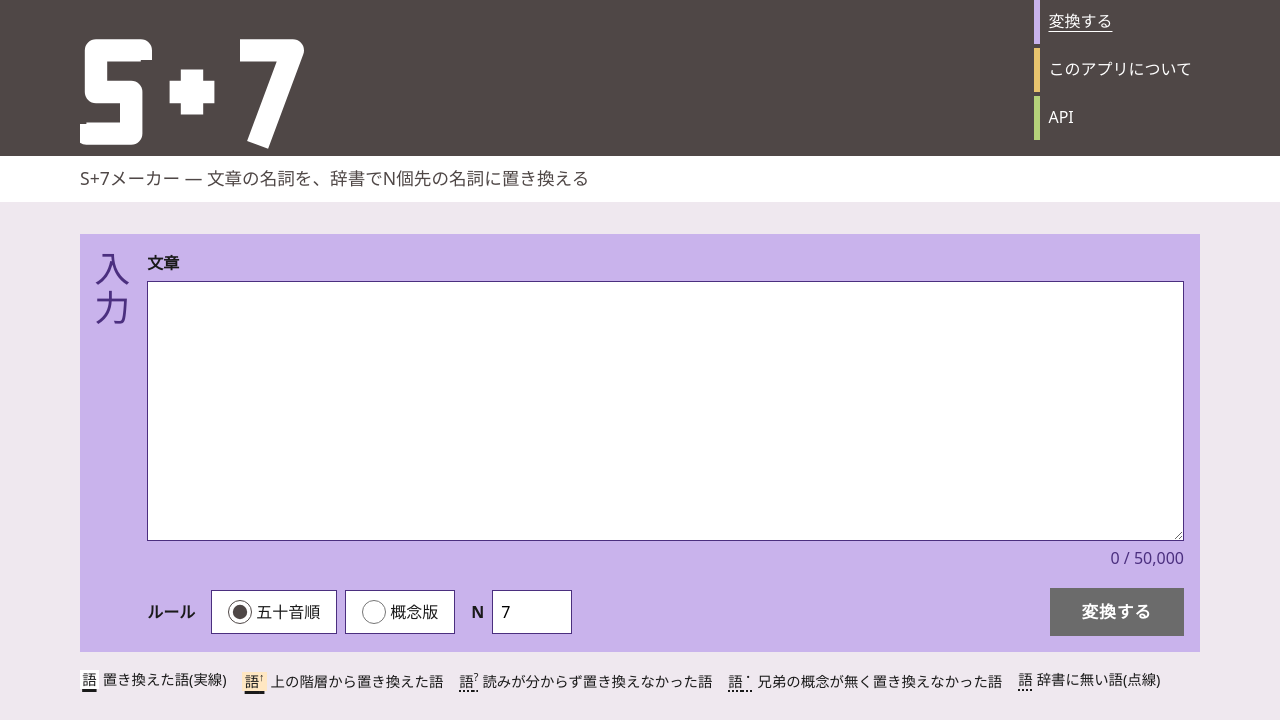
Test: TransformPage › 失敗したらエラーを表示し、入力を残す。失敗のイベントを送る
Type "猫" into the text box labelled "文章". click: {"x": 666, "y": 411}
box: top-left (147, 281), bottom-right (1184, 541)
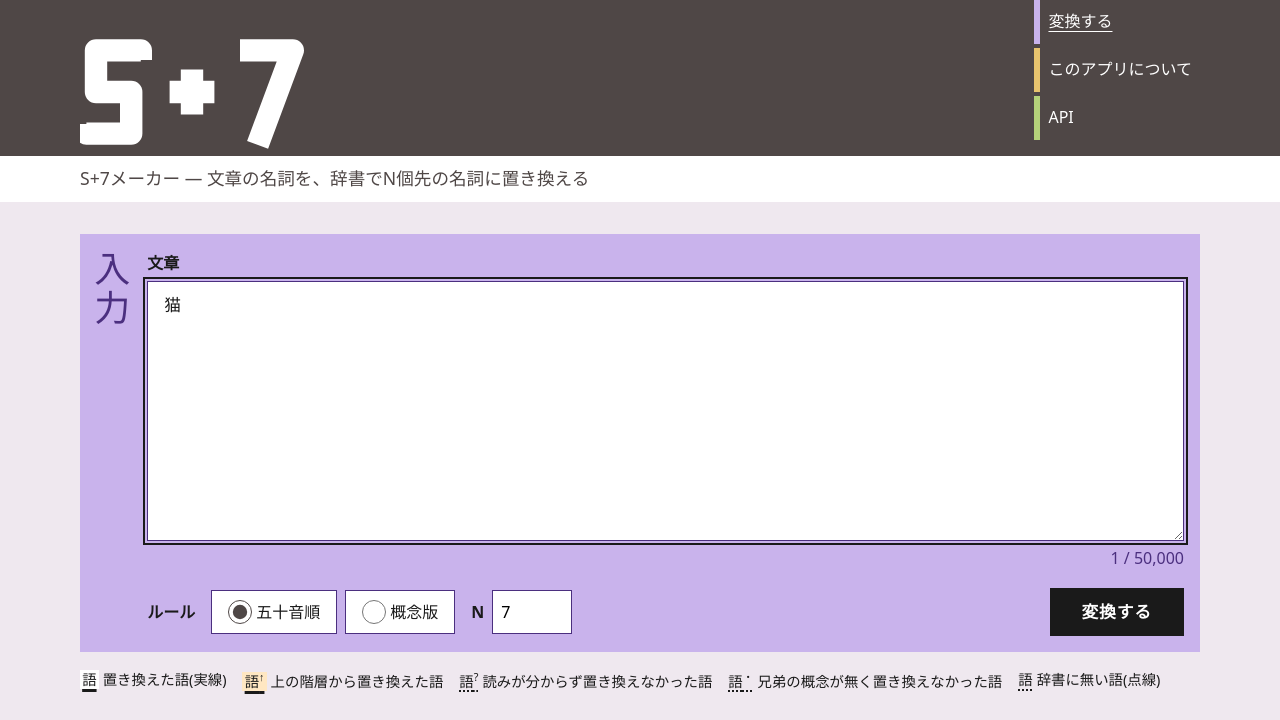
Click the button "変換する". click: {"x": 1117, "y": 612}
box: top-left (1050, 588), bottom-right (1184, 636)
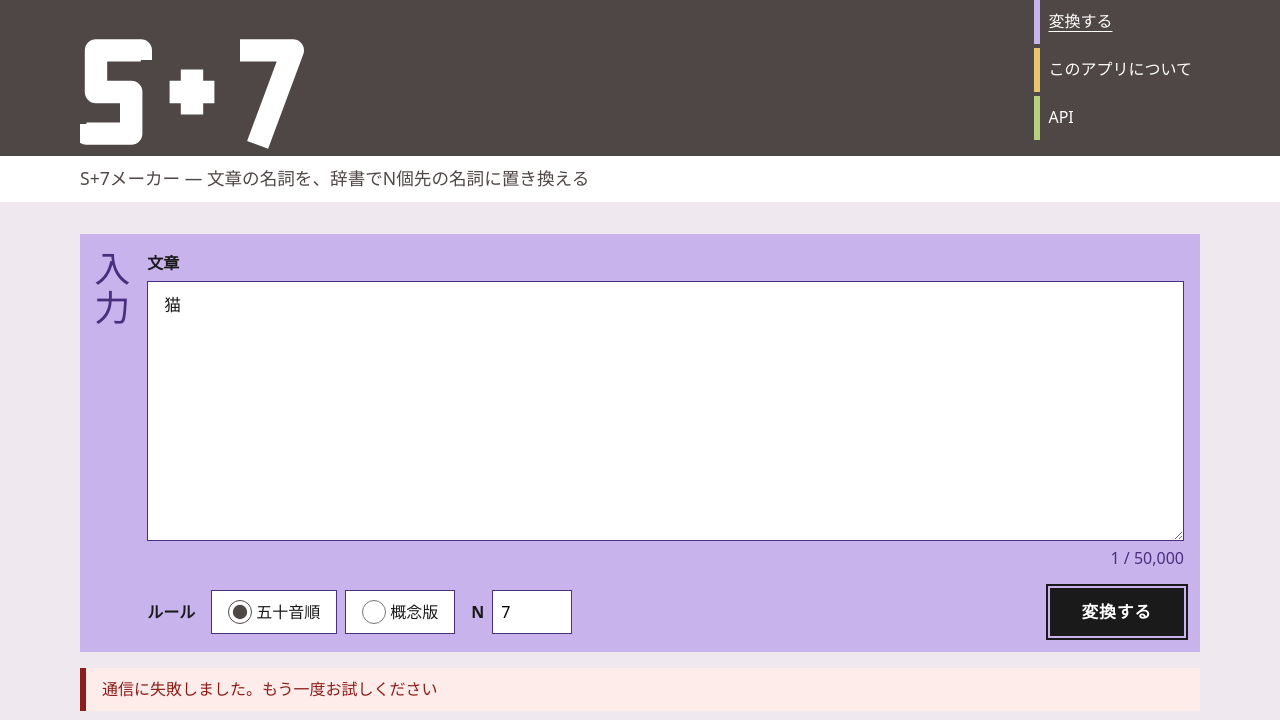
Result: the message shows "通信に失敗しました" at top-left (102, 678), bottom-right (438, 700)
